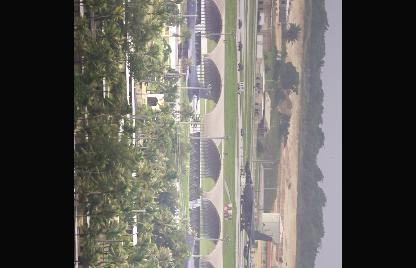AV8B: (178, 0, 212, 114), (176, 204, 211, 267)
B2: (240, 158, 274, 267)
